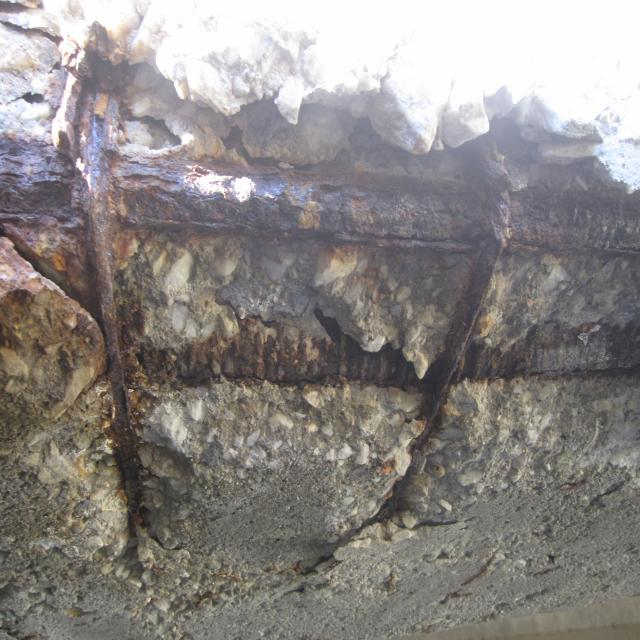corrosion: (0, 29, 640, 594)
